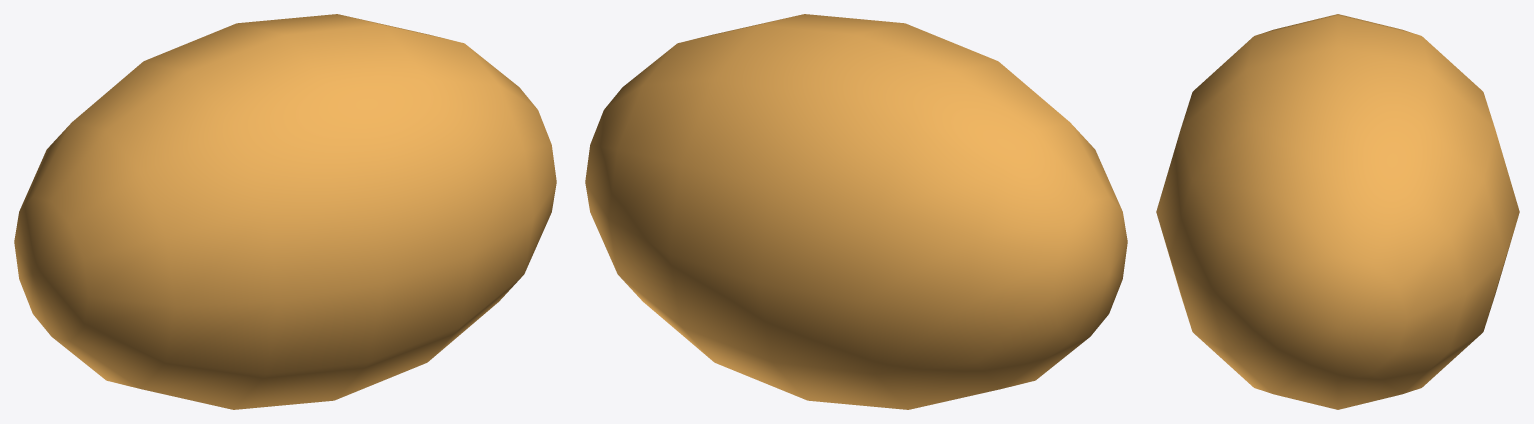
Rendered from Oval_02.fbx.
3 views of the same model, side by side, from view 1: azimuth 30°, elevation 25°; view 2: azimuth 150°, elevation 25°; view 3: azimuth 270°, elevation 25° (orthographic). The views are drawn at different scales.
Visible parts, largest first — view 1: Oval_02; view 2: Oval_02; view 3: Oval_02.
Boxes of the visible parts, box(x1,y1,x2,y2) form: Oval_02: box(14, 14, 556, 409); Oval_02: box(585, 14, 1127, 409); Oval_02: box(1156, 14, 1519, 409).
Bounding box in the file's own units: 408 × 272 × 272.
